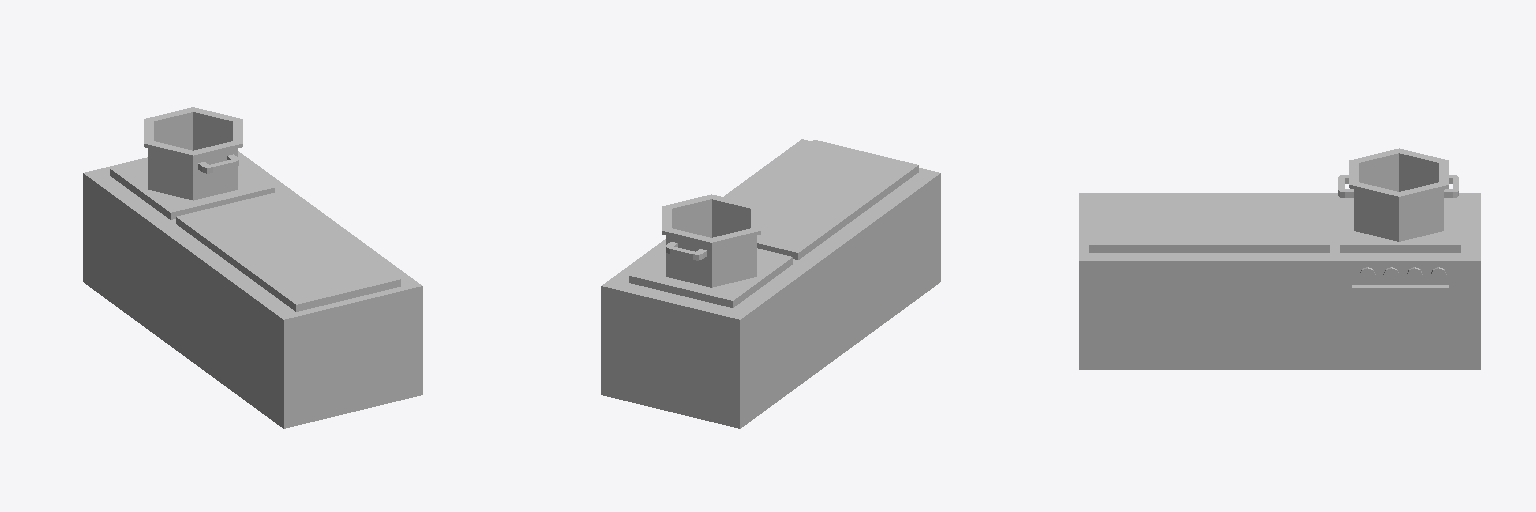
The model's file is Kitchen_Table.obj.
3 views of the same model, side by side, from view 1: azimuth 30°, elevation 25°; view 2: azimuth 150°, elevation 25°; view 3: azimuth 270°, elevation 25° (orthographic).
Visible parts, largest first — view 1: pCylinder15; view 2: pCylinder15; view 3: pCylinder15.
Boxes of the visible parts, x1=… form: pCylinder15: x1=83, y1=107, x2=422, y2=428; pCylinder15: x1=601, y1=139, x2=940, y2=428; pCylinder15: x1=1079, y1=148, x2=1480, y2=369.
Size of the model in its own units: 2.09 by 2.25 by 5.